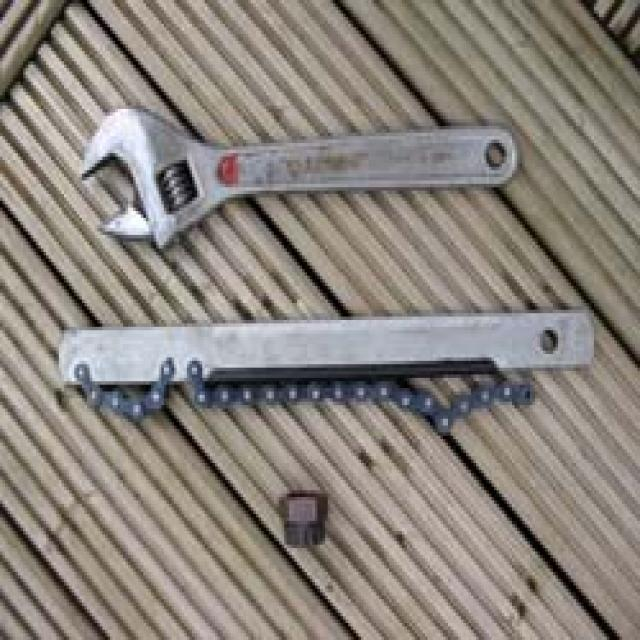wrench: (59, 88, 546, 264)
